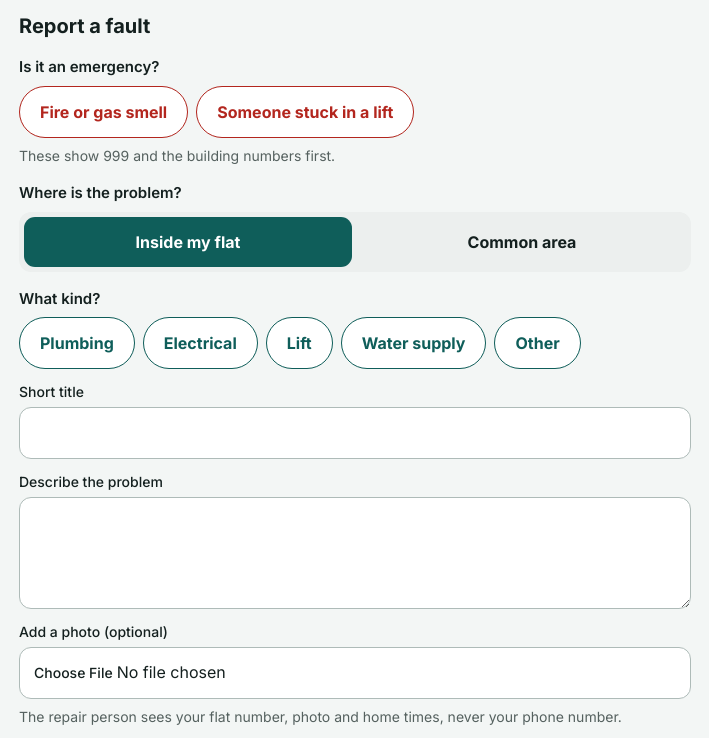
Scenario: ReportFaultForm: common area › drops the match when I go back to inside my flat
Click the button "Common area" at [522, 242], box [357,216,687,268]
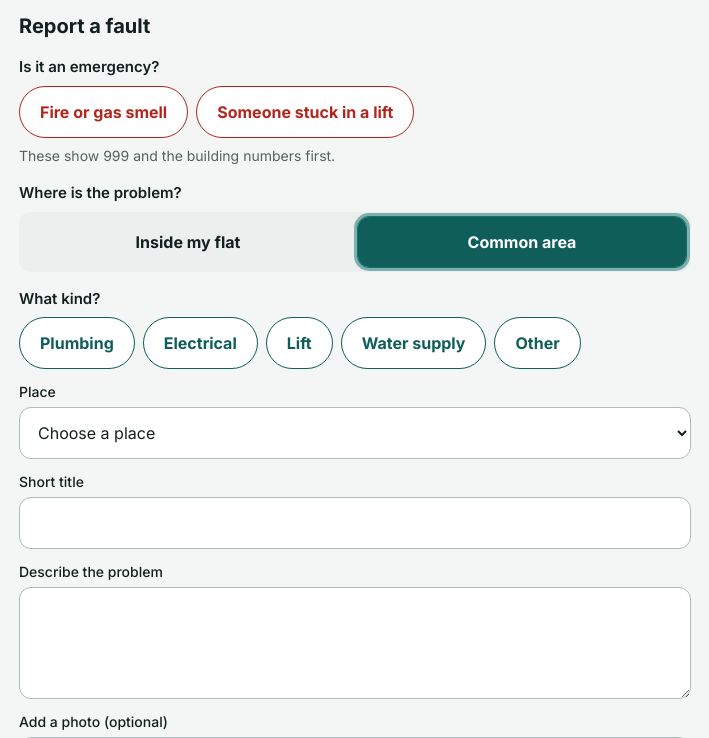
Click the button "Plumbing" at [77, 343], box [19,317,135,369]
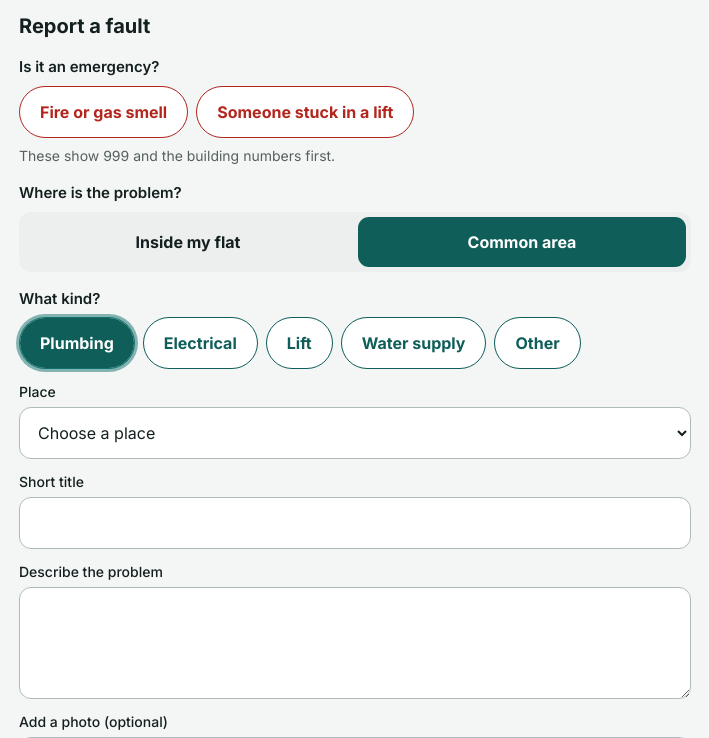
Select "Water pump" in the dropdown labelled "Place" at [355, 433], box [19,407,691,459]
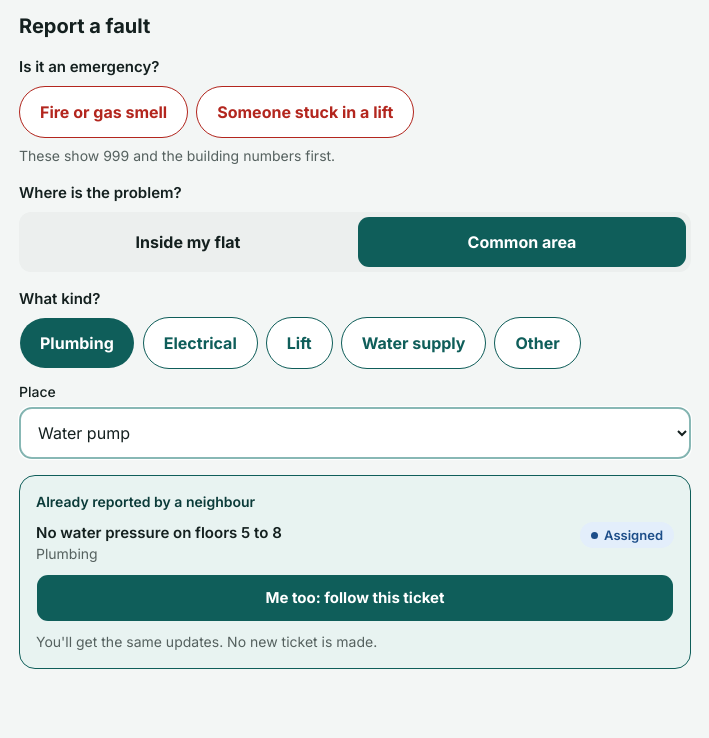
Check: the element "Already reported by a neighbour" is shown, box [19,475,691,669]
Click the button "Inside my flat" at [188, 242], box [23,216,353,268]
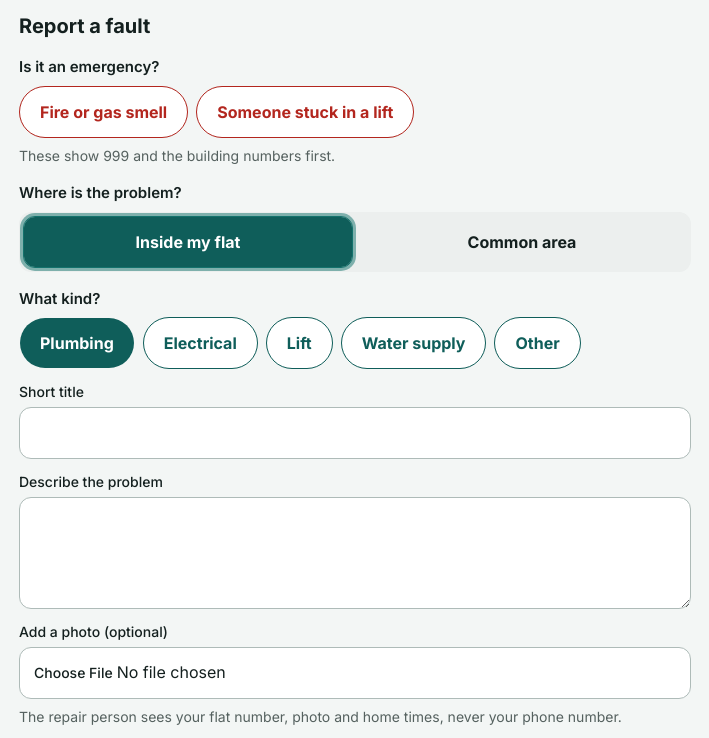
Check: the heading "Already reported by a neighbour" is gone
Check: the text box labelled "Describe the problem" is shown, box [19,497,691,609]
